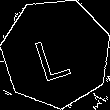L_N: (34, 25, 78, 82)
